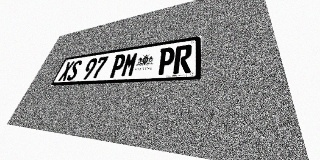7: (90, 56, 109, 79)
9: (81, 58, 99, 80)
M: (120, 52, 139, 77)
P: (156, 47, 176, 75), (108, 54, 127, 78)
R: (173, 44, 192, 74)
S: (66, 60, 83, 81)
X: (58, 61, 75, 81)
